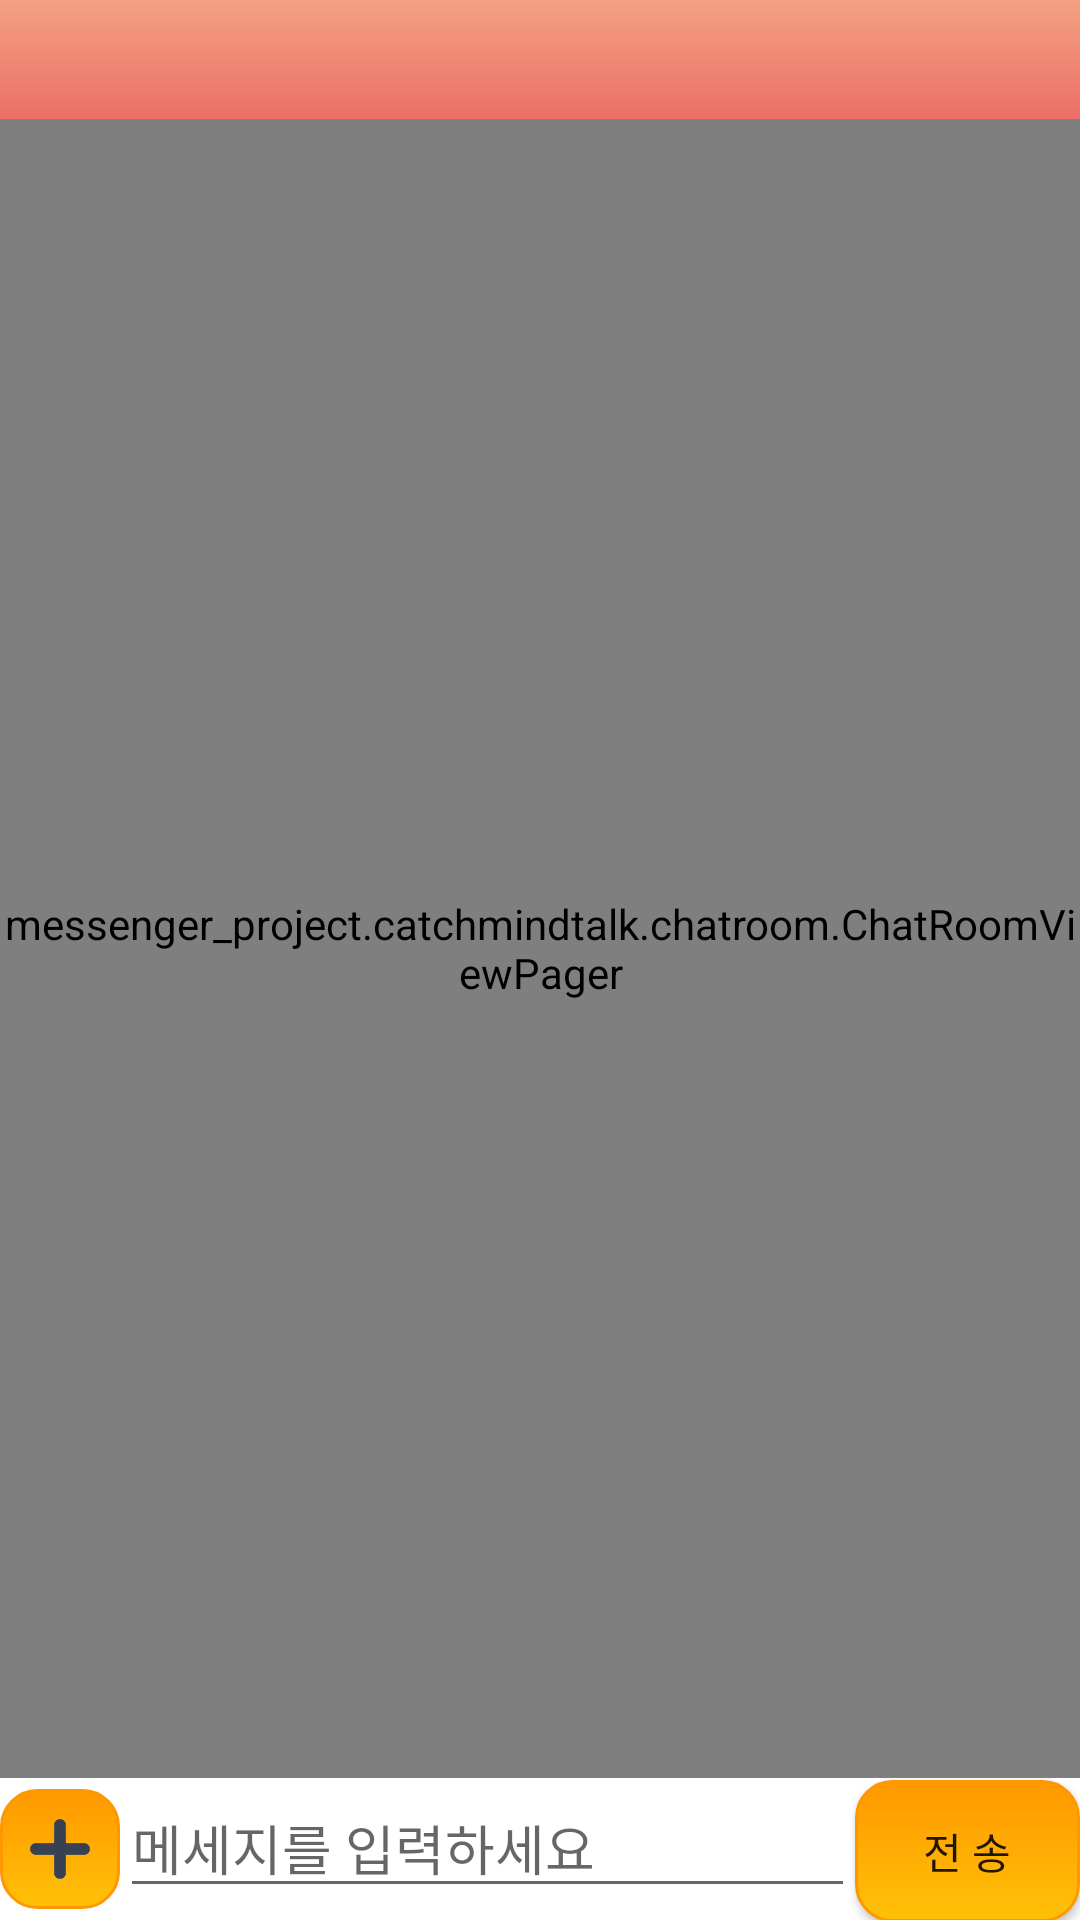

Named icons in this screenshot (1080px×1920px) and their centers, [x,y]:
plus: [60,1849]
